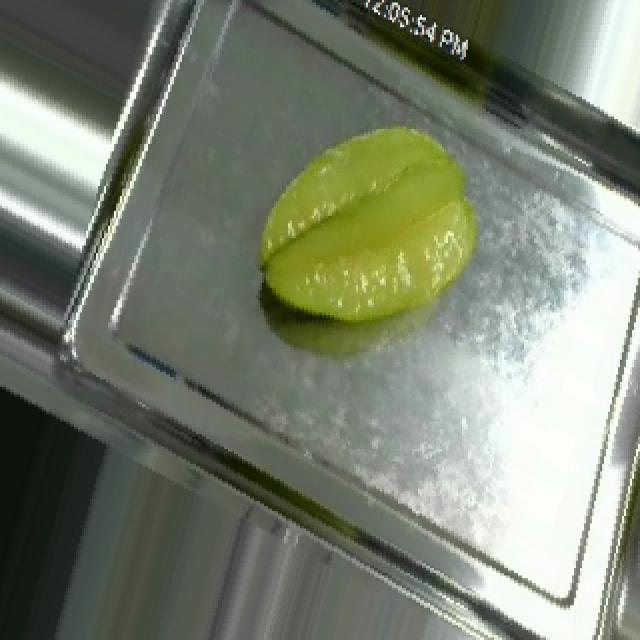fruit: (214, 72, 514, 379)
